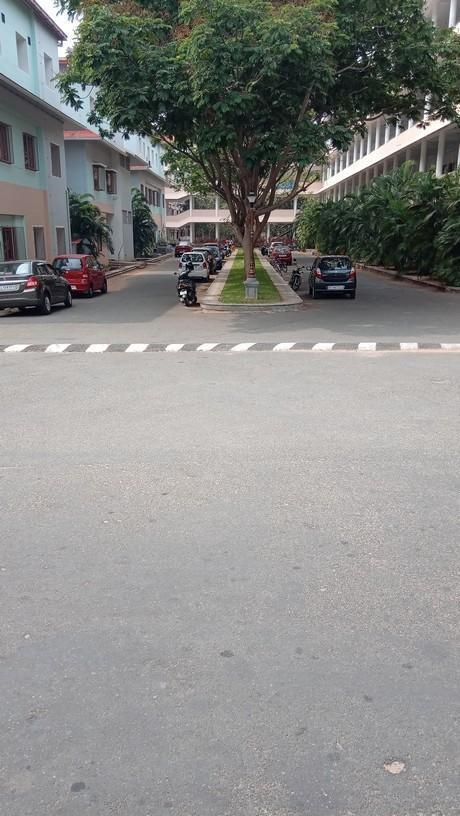speedbreaker: (3, 336, 460, 362)
